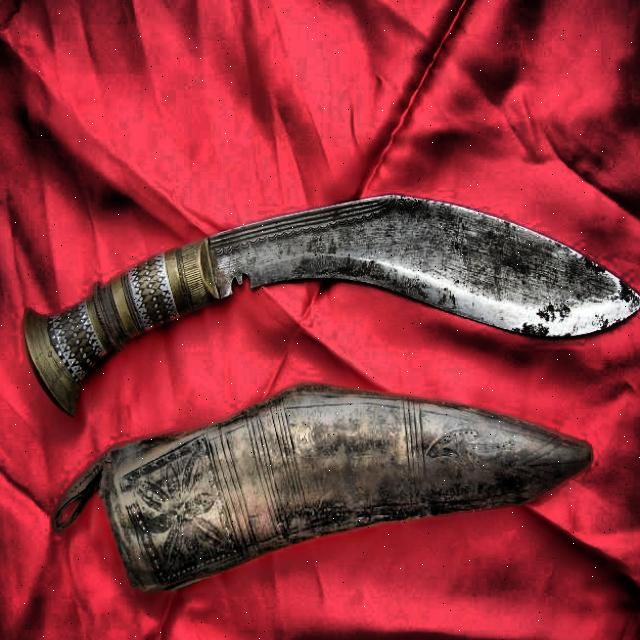knife: (21, 189, 640, 419)
